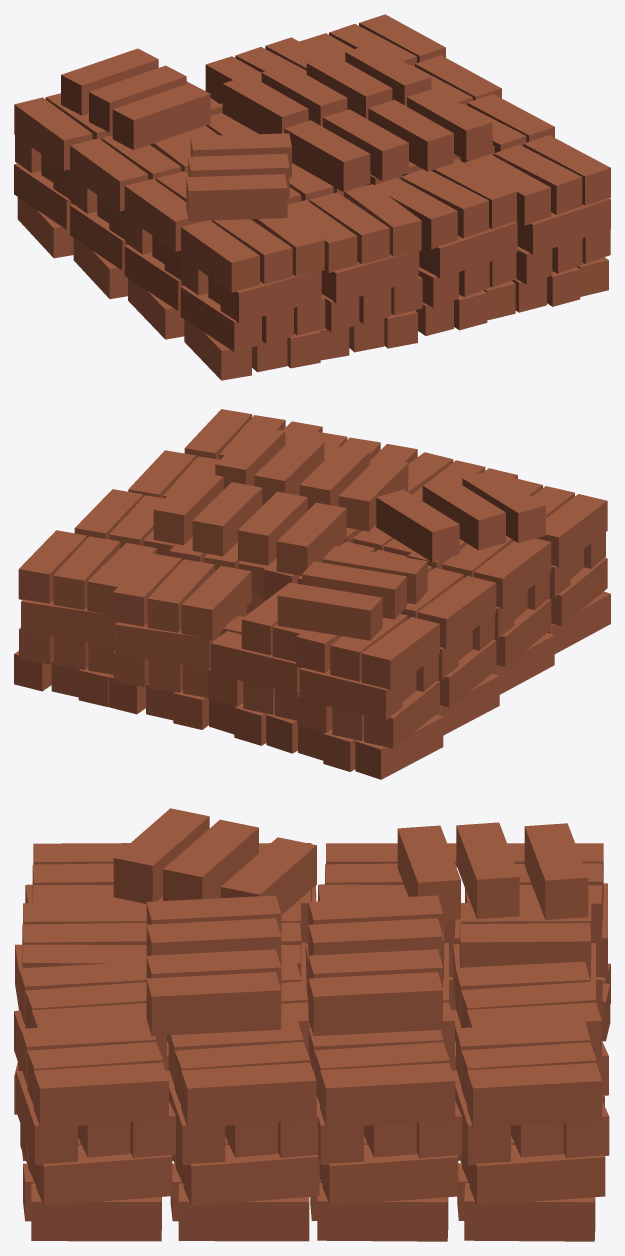
File: ziegelhaufen.glb
3 views of the same model, one above another, from view 1: azimuth 30°, elevation 25°; view 2: azimuth 150°, elevation 25°; view 3: azimuth 270°, elevation 25° (orthographic). The views are drawn at different scales.
Parts seen in each view (by area): view 1: Cube.025; view 2: Cube.025; view 3: Cube.025.
Part boxes in pixels (box(x1,y1,x2,y2)): Cube.025: box(14, 14, 610, 380); Cube.025: box(14, 409, 610, 779); Cube.025: box(14, 808, 610, 1241).
Bounding box in the file's own units: 1.36 × 0.5053 × 1.37.
